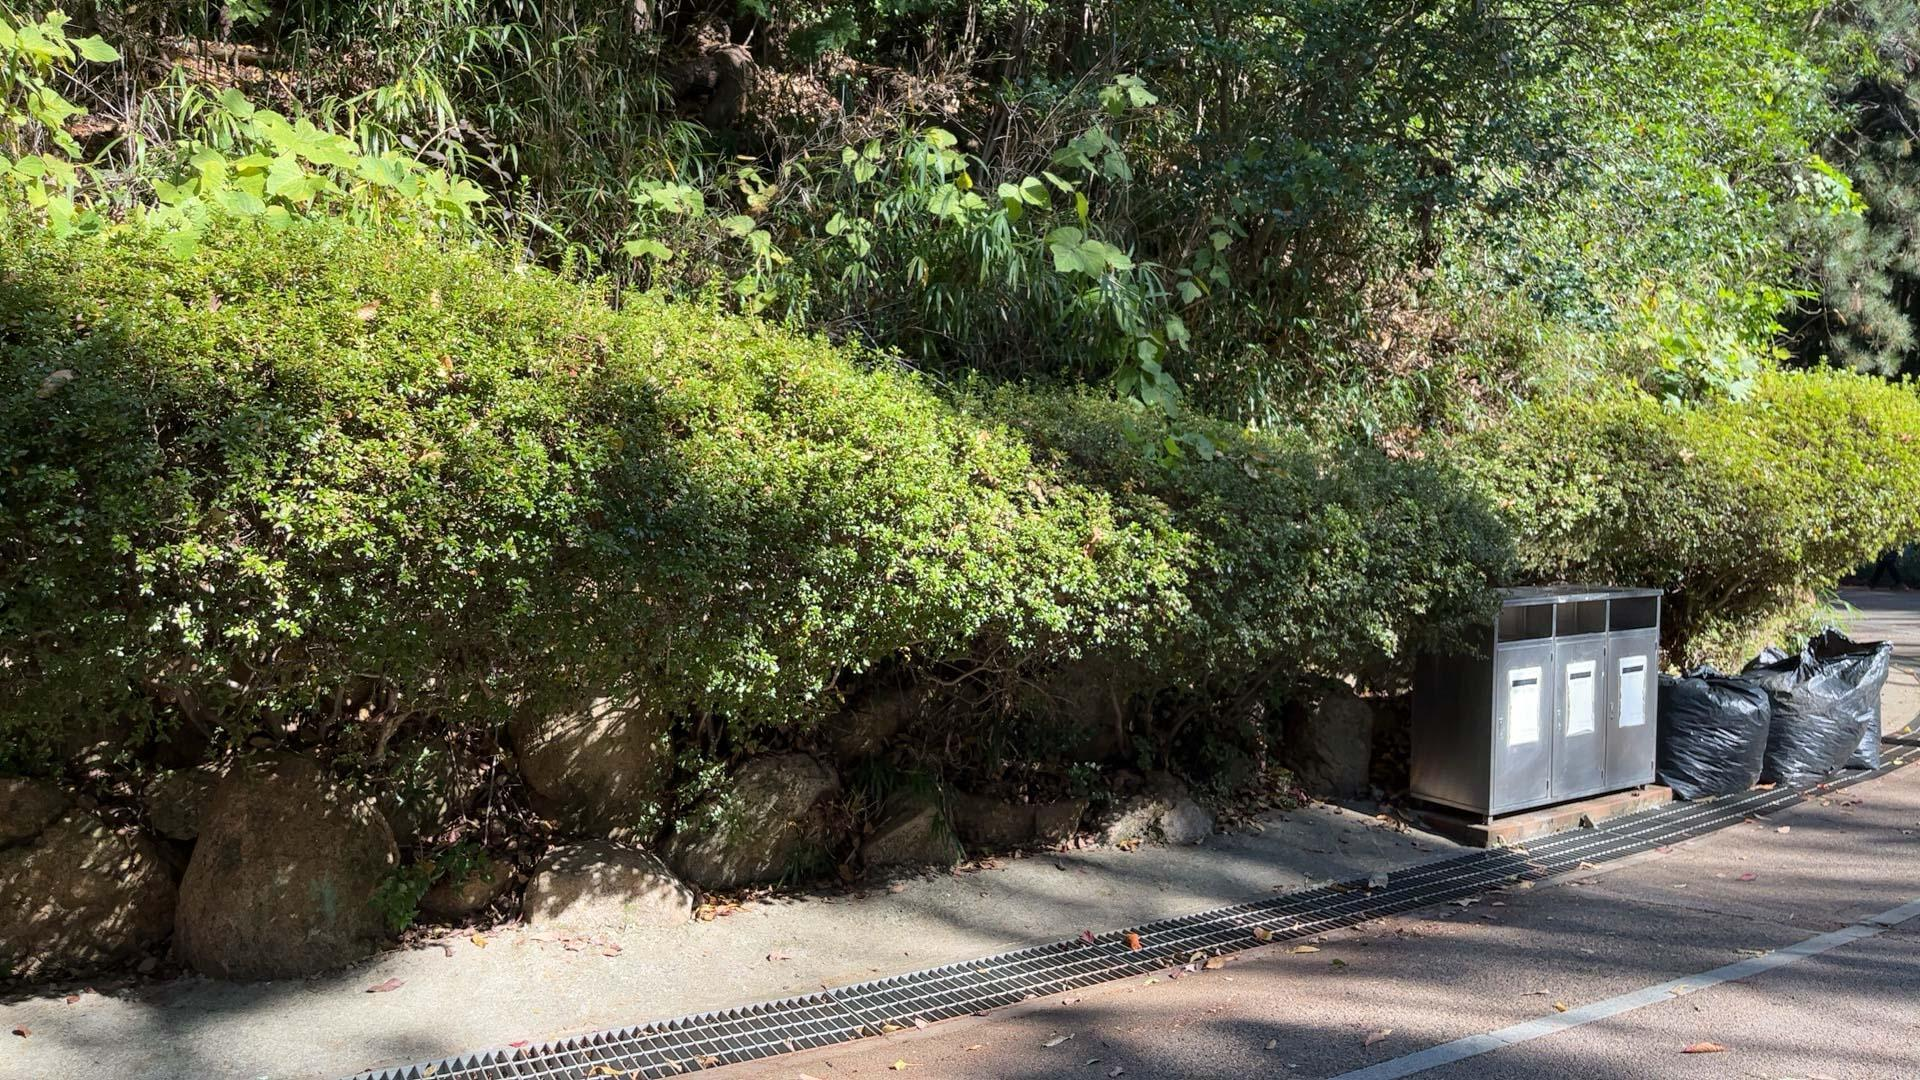black_bag: (1741, 625, 1896, 791), (1644, 659, 1768, 804)
